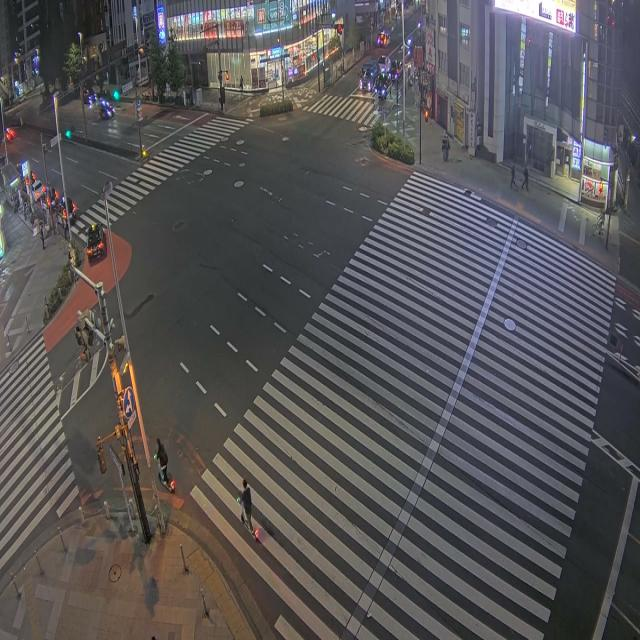car: (86, 224, 105, 261), (60, 195, 77, 224), (359, 64, 376, 92), (373, 73, 391, 99), (100, 100, 114, 119), (32, 181, 45, 201), (390, 59, 402, 80), (83, 90, 97, 106), (377, 31, 390, 47), (378, 56, 390, 72), (6, 127, 16, 141)
